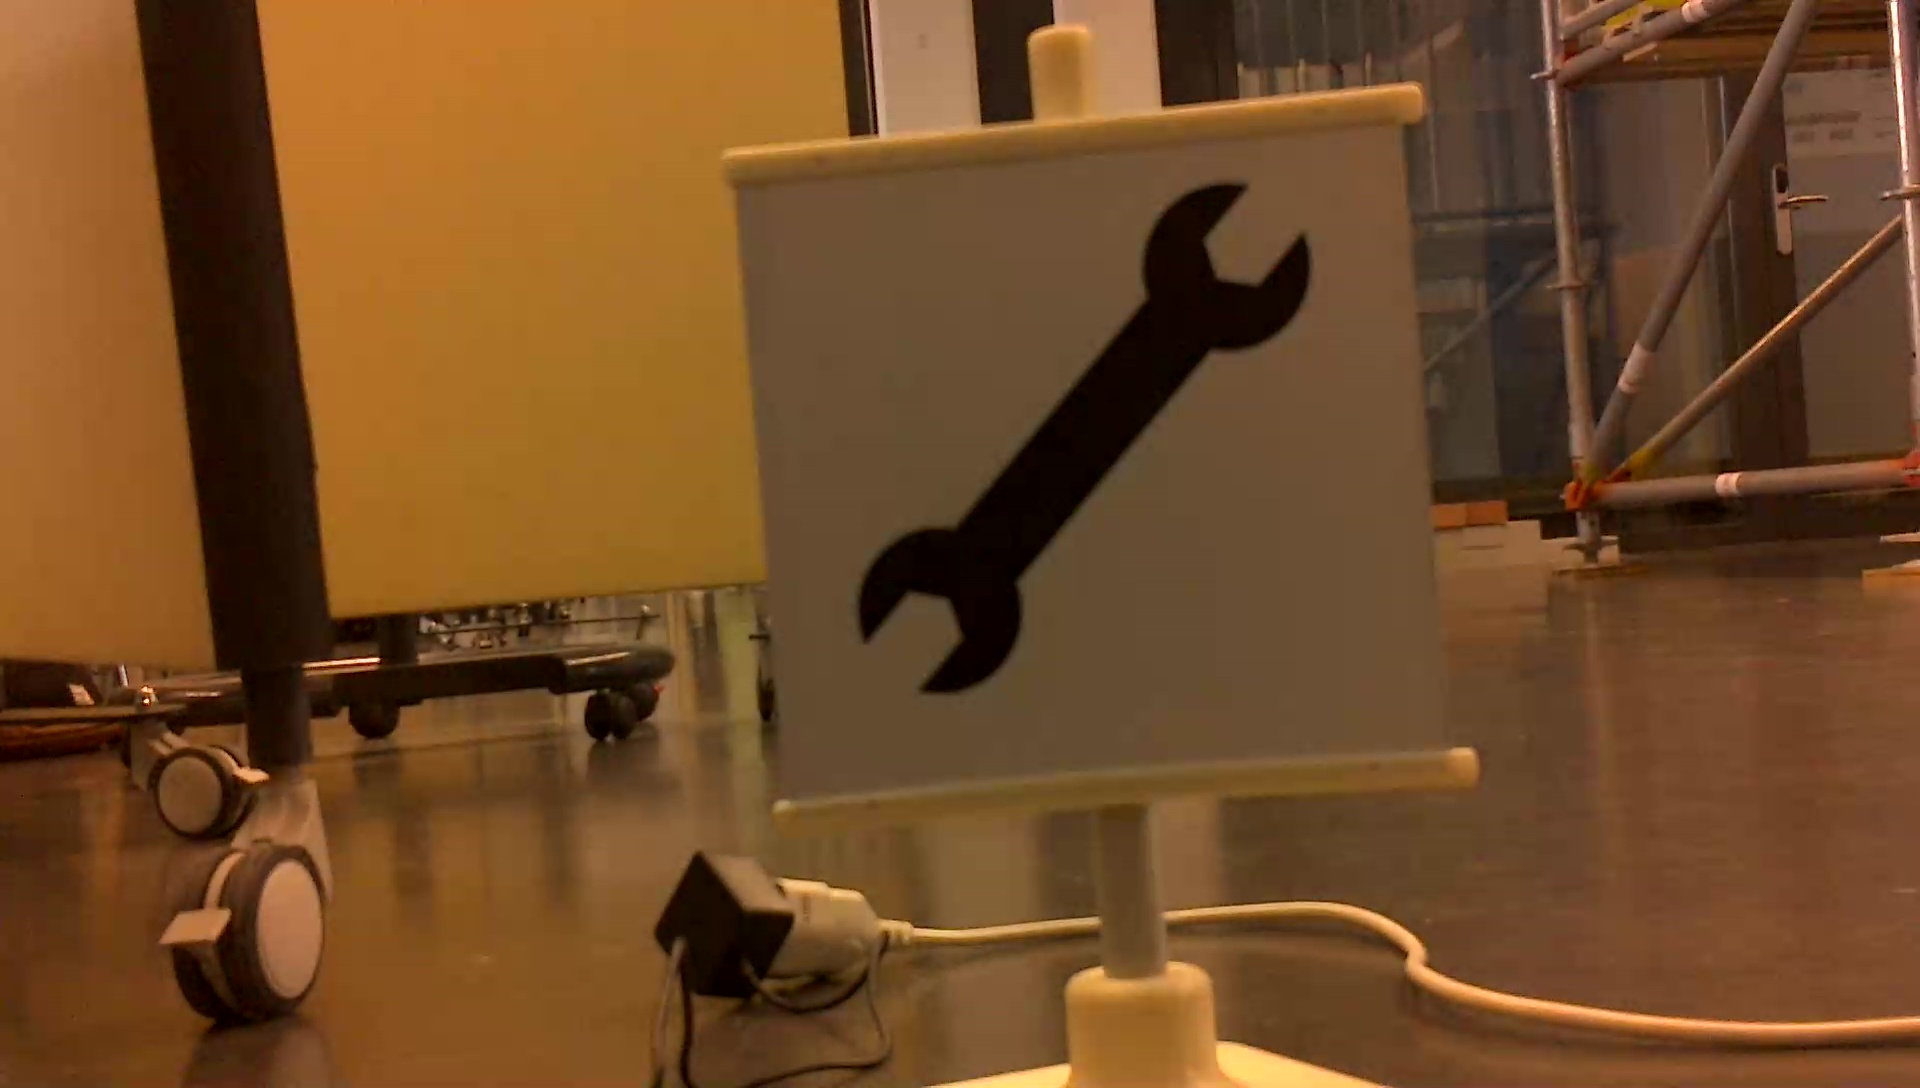wrench: (818, 167, 1345, 720)
